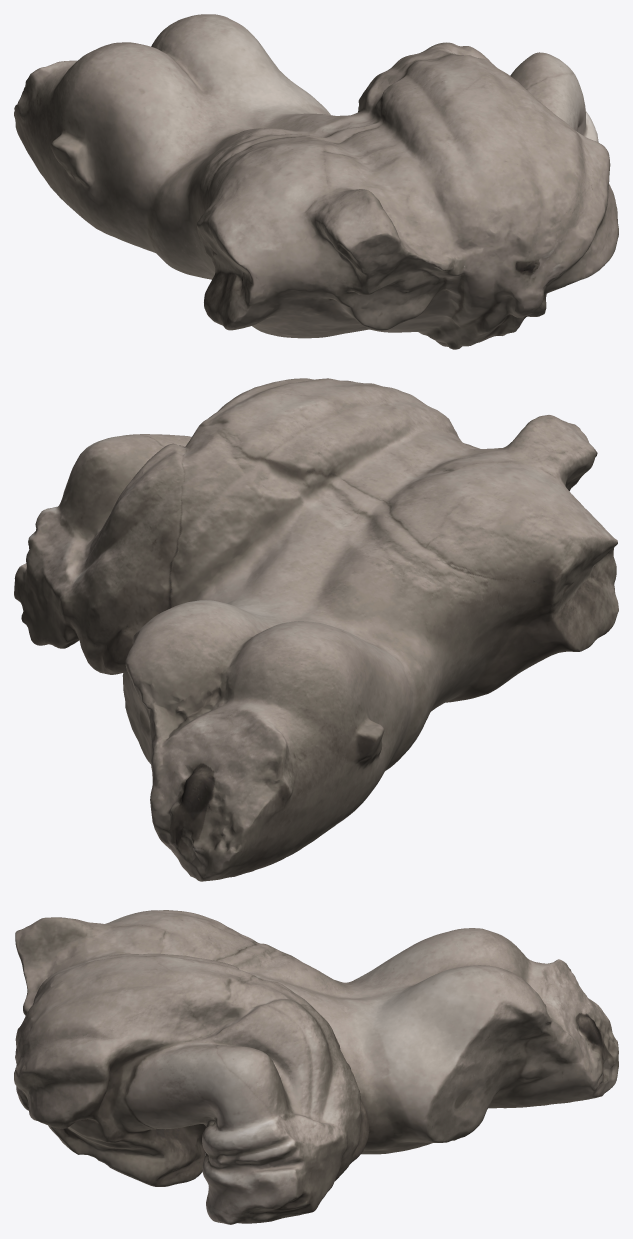
The model's file is doinysis.obj.
The picture shows the model from 3 angles, top to bottom: view 1: azimuth 30°, elevation 25°; view 2: azimuth 150°, elevation 25°; view 3: azimuth 270°, elevation 25°; orthographic projection. The views are drawn at different scales.
Size of the model in its own units: 3.21 by 1.74 by 4.21.
1 material, 1 textured.
